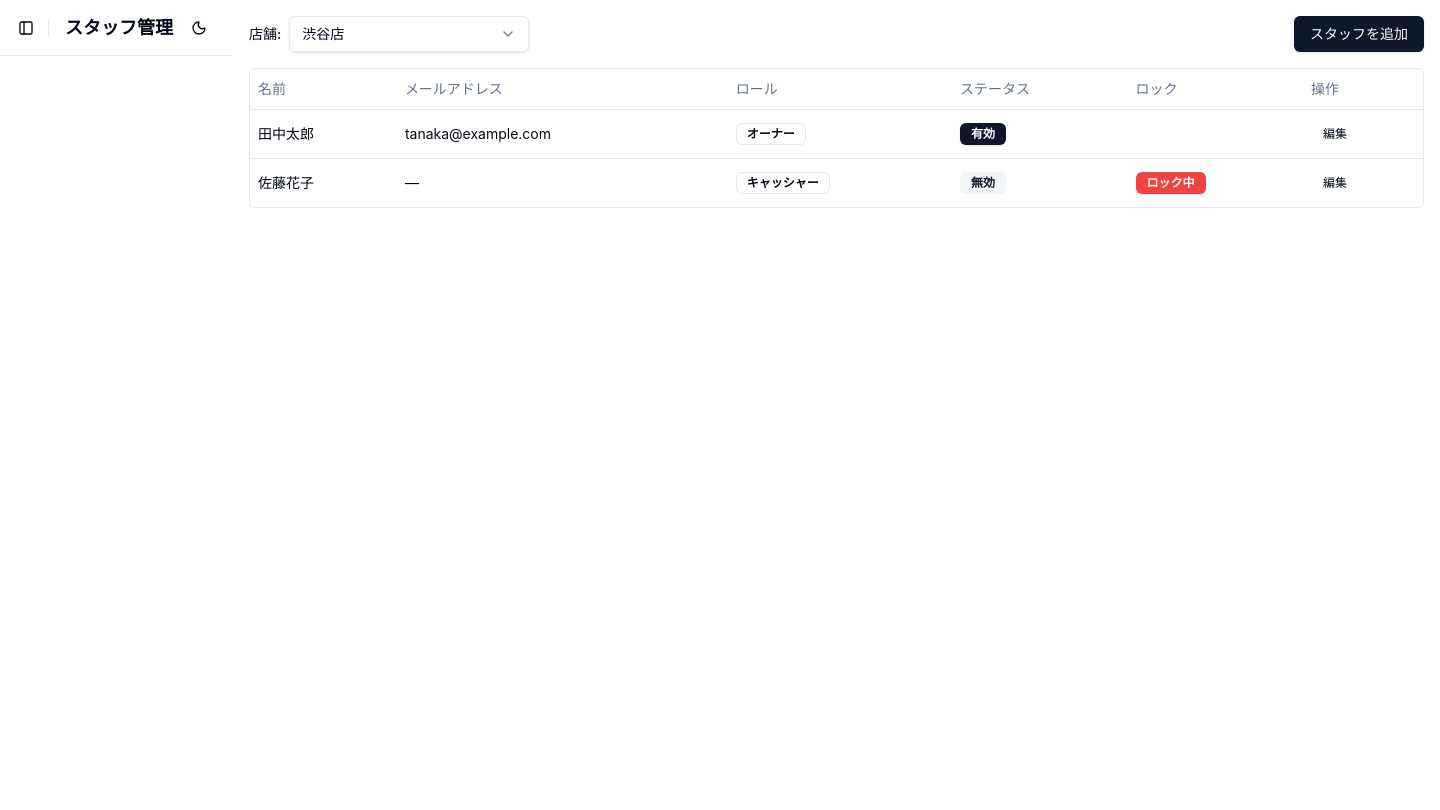
Test: StaffPage › スタッフを追加ボタンでダイアログが開く
Expected: the text "田中太郎" is shown, [250, 109, 397, 158]
Click the button "スタッフを追加" at coordinates (1359, 34), box [1294, 16, 1424, 52]
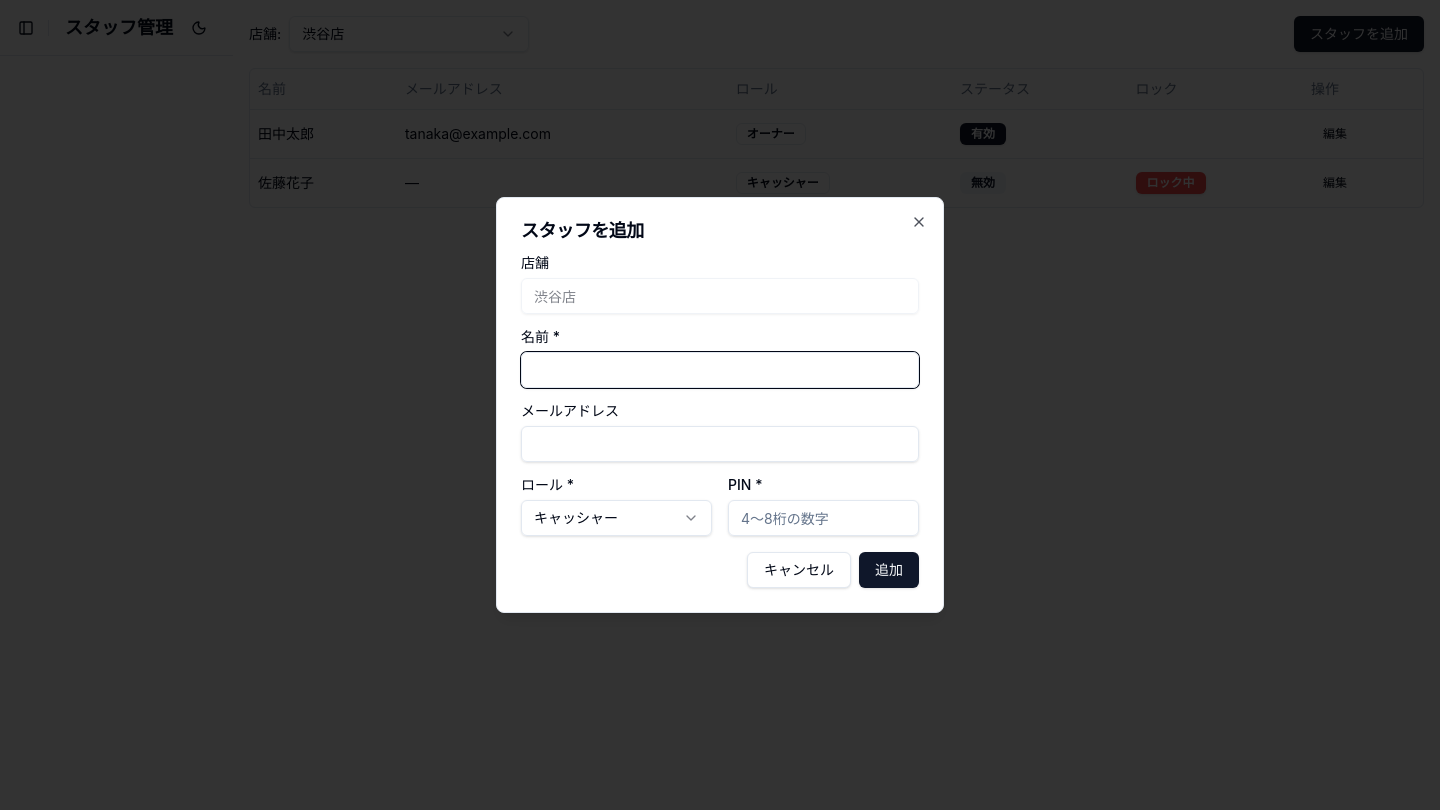
Now the heading "スタッフを追加" is shown, box [521, 220, 644, 241]
